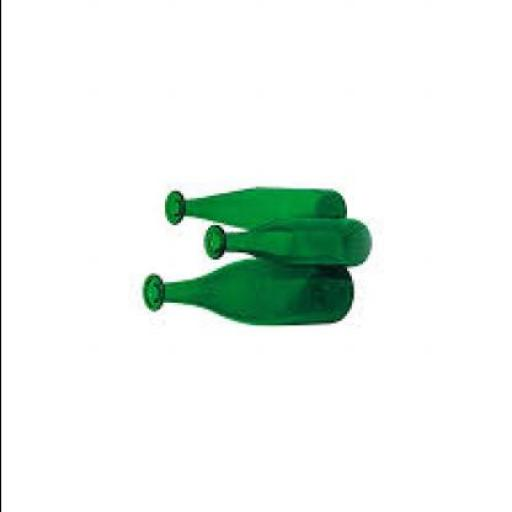glass: (141, 254, 350, 324), (200, 216, 369, 266), (162, 184, 341, 228)
